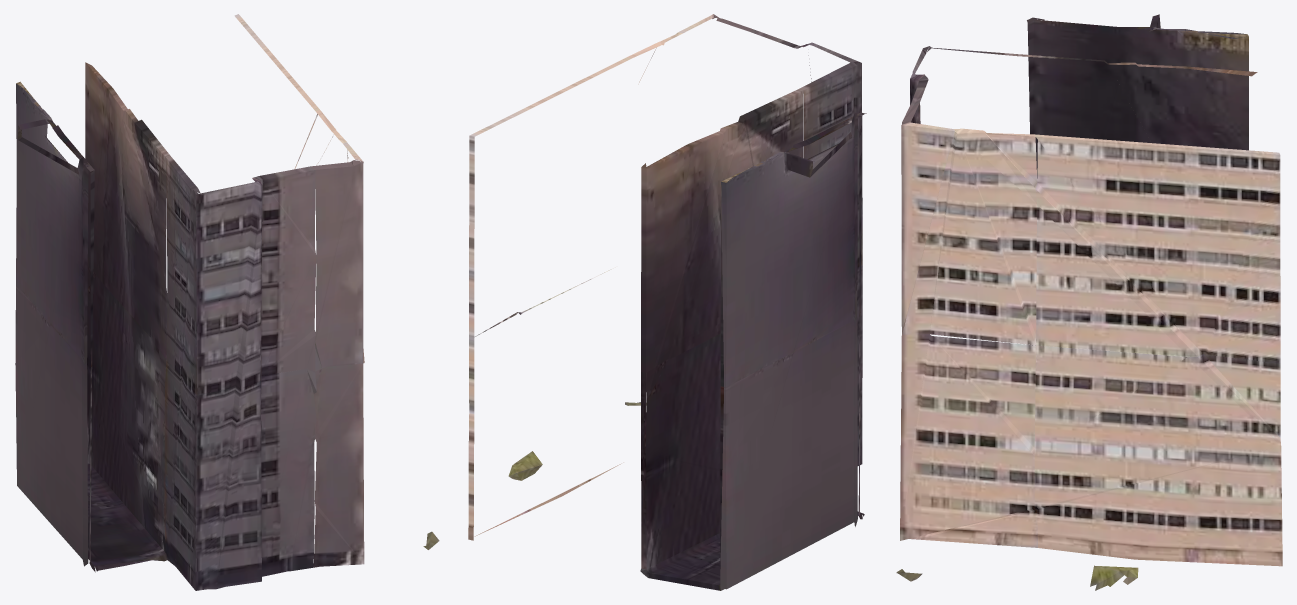
The picture shows the model from 3 angles, left to right: view 1: azimuth 30°, elevation 25°; view 2: azimuth 150°, elevation 25°; view 3: azimuth 270°, elevation 25°; orthographic projection. The views are drawn at different scales.
Visible parts, largest first — view 1: Mesh_0; view 2: Mesh_0; view 3: Mesh_0.
Boxes of the visible parts, x1,y1,x2,y2 form: Mesh_0: (15, 14, 439, 590); Mesh_0: (468, 14, 866, 590); Mesh_0: (896, 14, 1282, 590).
Bounding box in the file's own units: 30.03 × 37.55 × 30.96.
1 material, 1 textured.
